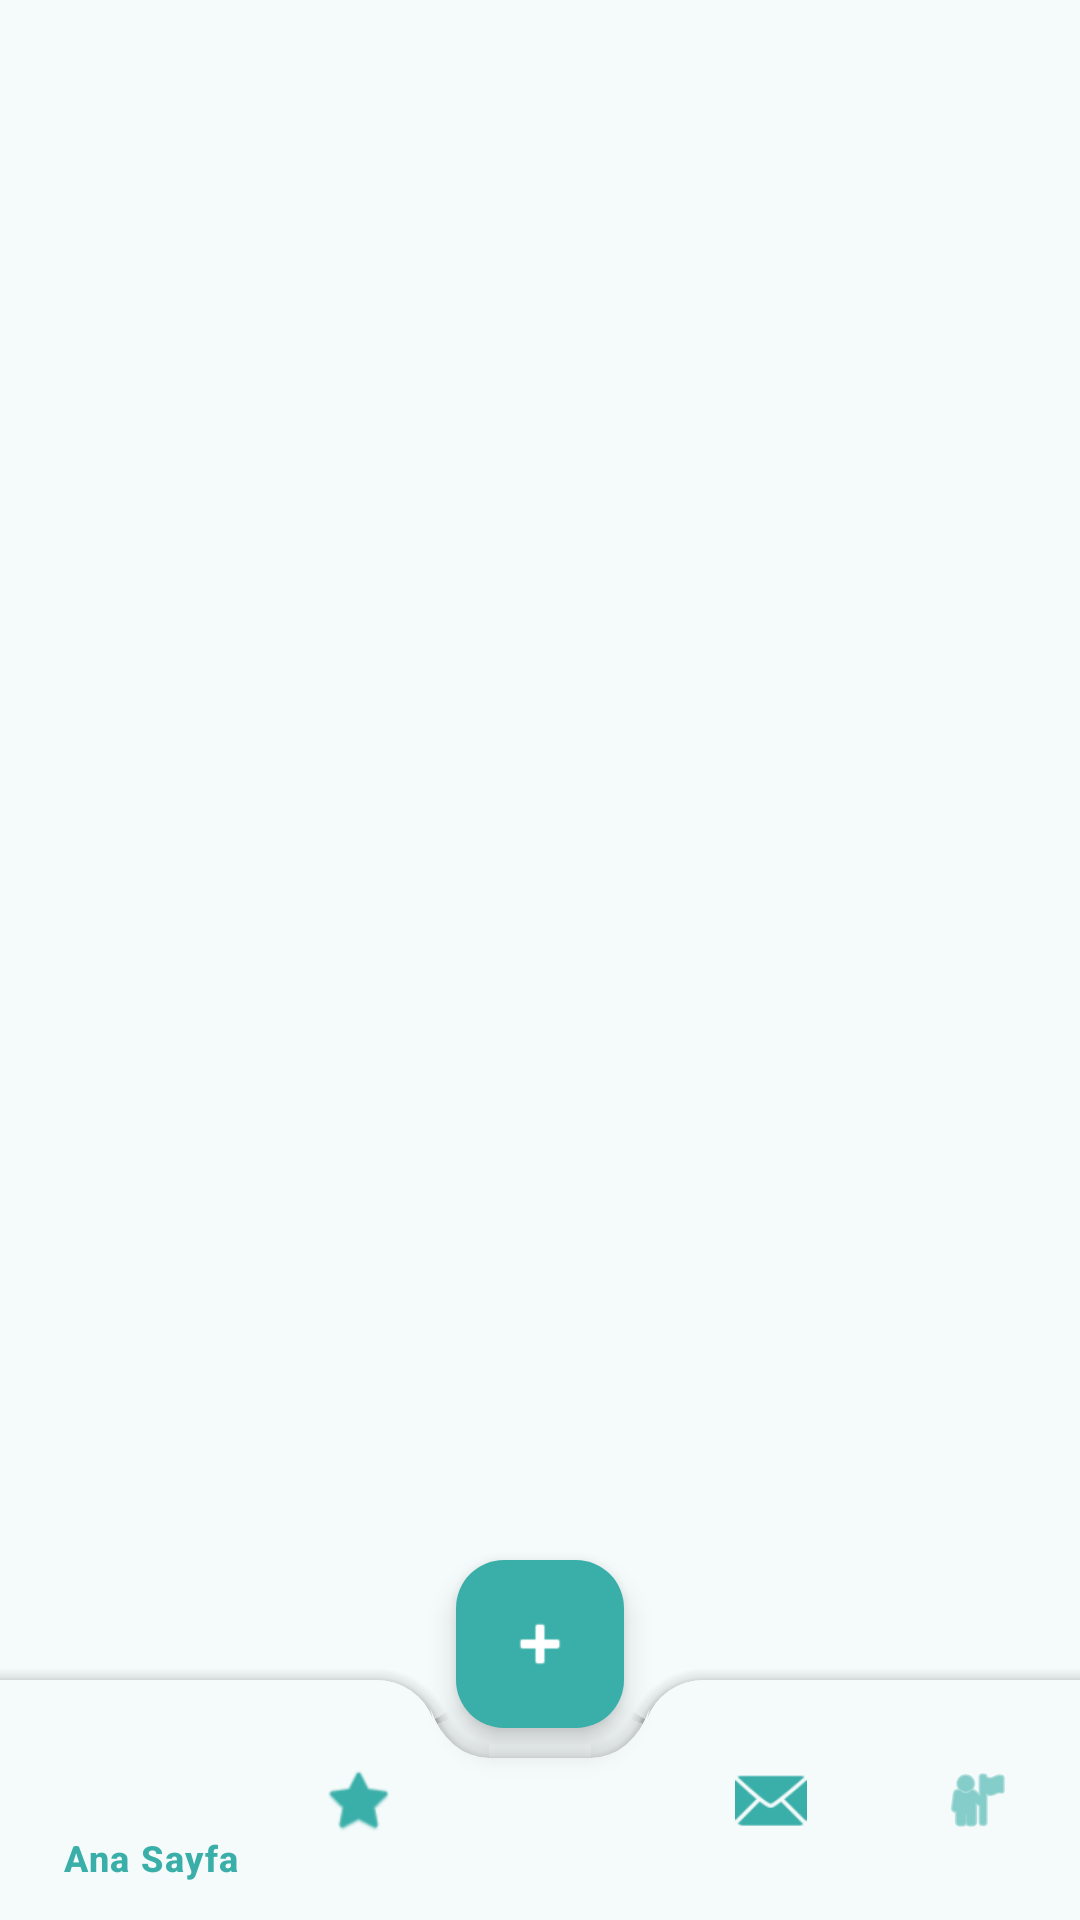

Icon click points for this 1080x1920 phone screenshot, format point (x, y):
İlan Ekle: point (540, 1680)
